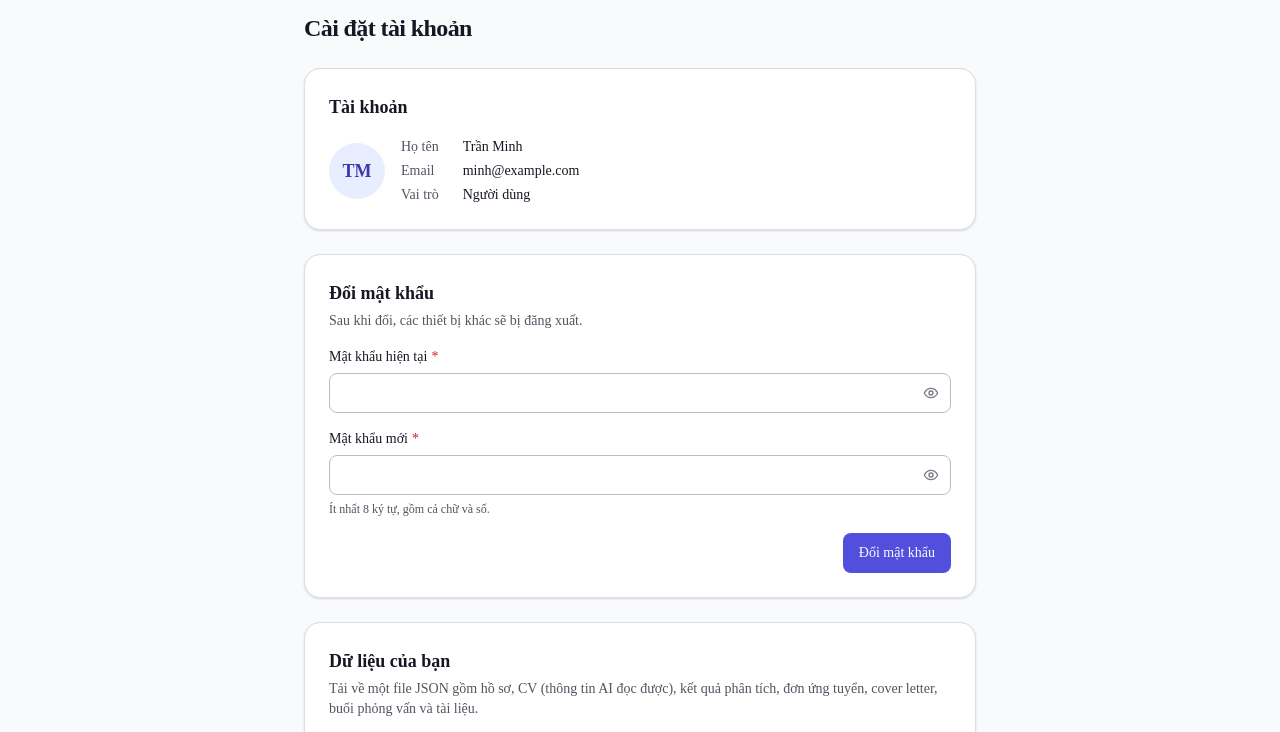
it: SettingsView › changes the password
This screenshot has width=1280, height=732.
Type "leap2026" into the password field labelled "Mật khẩu hiện tại *" at {"x": 640, "y": 393}, box [329, 373, 951, 413]
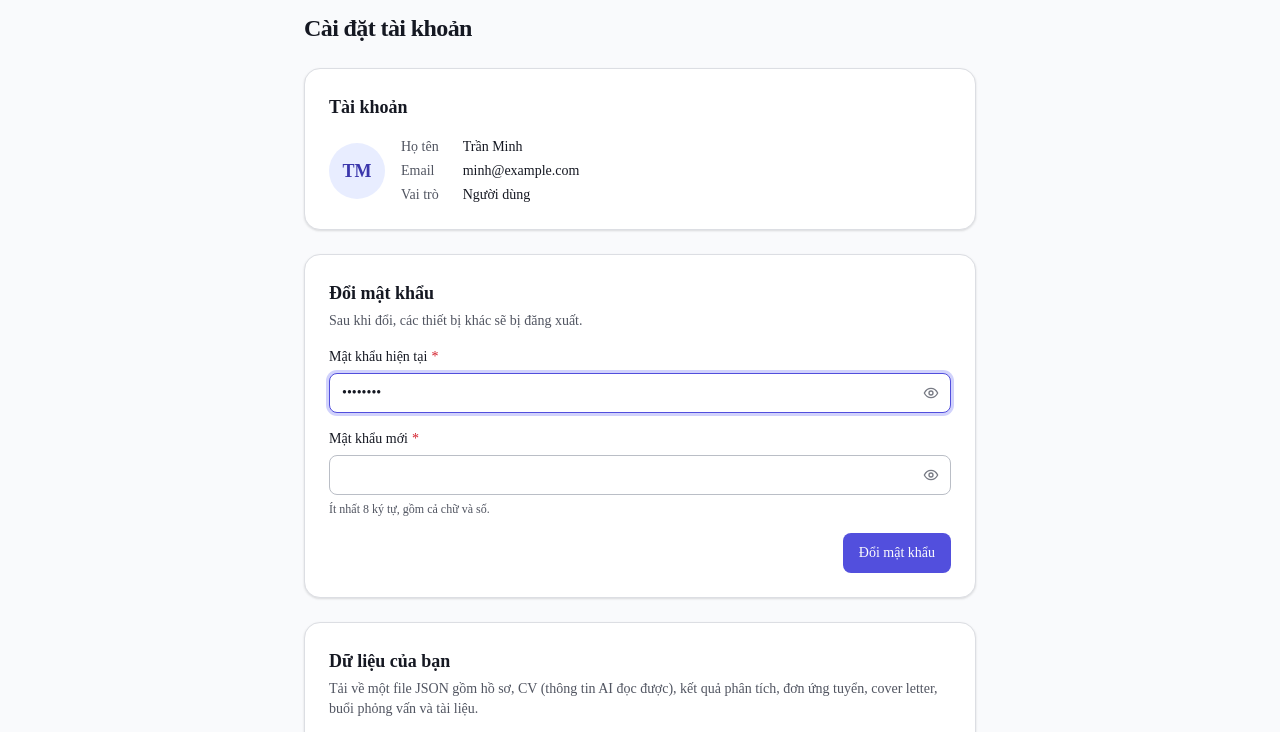
Type "leap2027" into the password field labelled "Mật khẩu mới *" at {"x": 640, "y": 475}, box [329, 455, 951, 495]
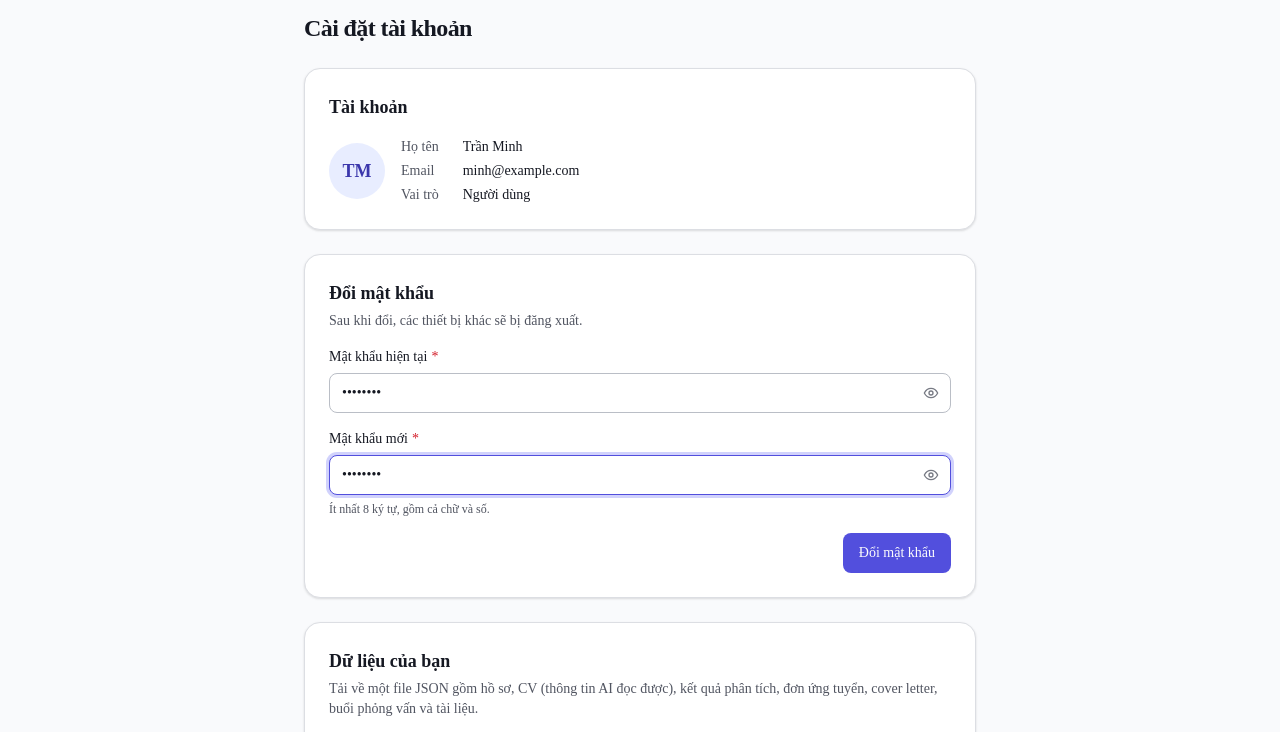
Click the button "Đổi mật khẩu" at {"x": 897, "y": 553}, box [843, 533, 951, 573]
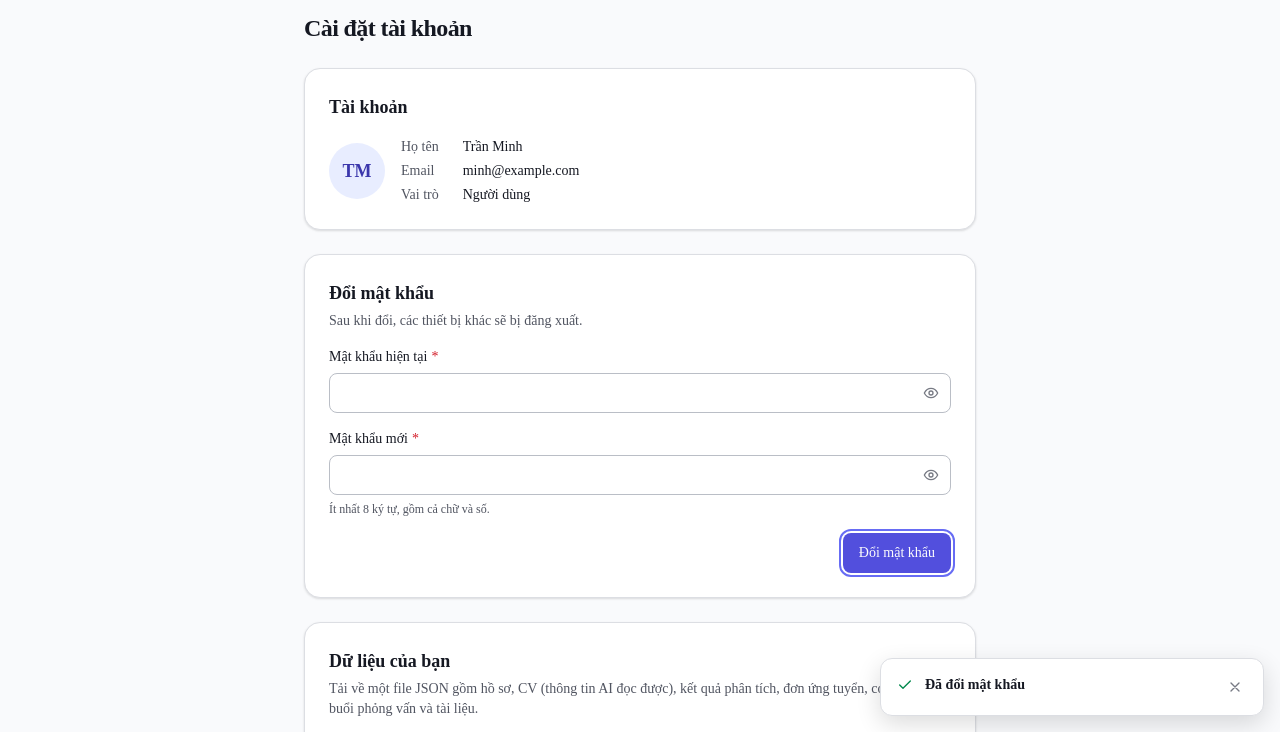
Expected: the text "Đã đổi mật khẩu" is shown, [925, 677, 1025, 692]
Expected: the password field labelled "Mật khẩu hiện tại *" is empty, [329, 373, 951, 413]
